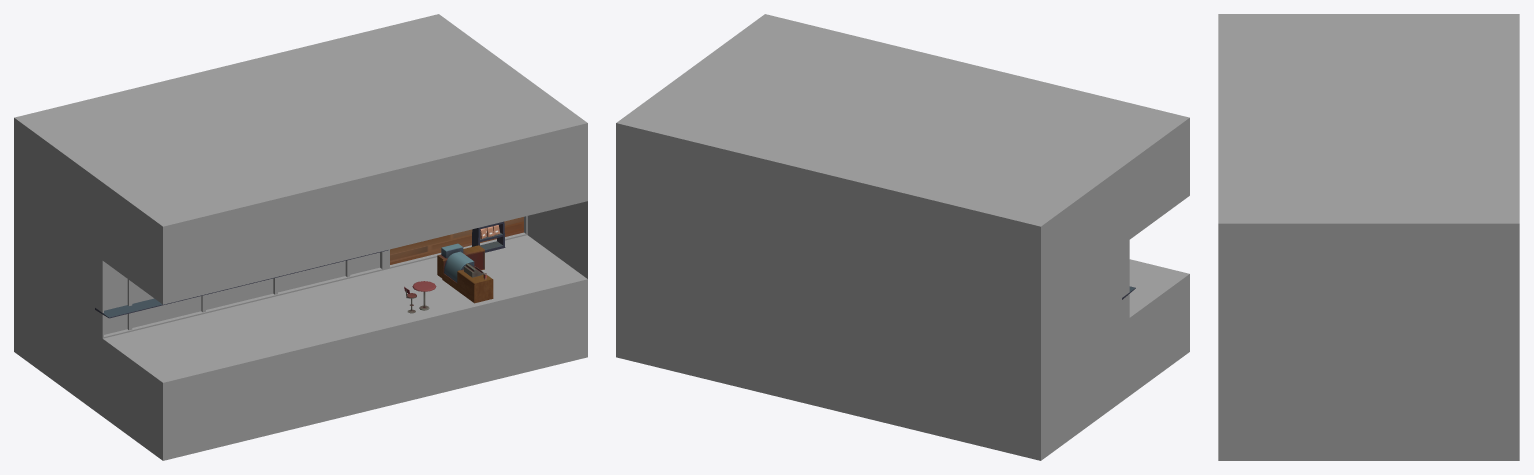
File: COFFEE.fbx
The picture shows the model from 3 angles, left to right: view 1: azimuth 30°, elevation 25°; view 2: azimuth 150°, elevation 25°; view 3: azimuth 270°, elevation 25°; orthographic projection.
Parts seen in each view (by area): view 1: polySurface157, polySurface51, polySurface203, polySurface169, polySurface158; view 2: polySurface157; view 3: polySurface157.
Part boxes in pixels (x1=…): polySurface157: x1=14, y1=14, x2=587, y2=460; polySurface51: x1=104, y1=252, x2=379, y2=334; polySurface203: x1=437, y1=243, x2=493, y2=303; polySurface169: x1=95, y1=221, x2=505, y2=318; polySurface158: x1=390, y1=217, x2=523, y2=264; polySurface157: x1=616, y1=14, x2=1189, y2=460; polySurface157: x1=1218, y1=14, x2=1519, y2=460.
Bounding box in the file's own units: 22.45 × 11.84 × 13.64.
5 materials, 4 textured.
